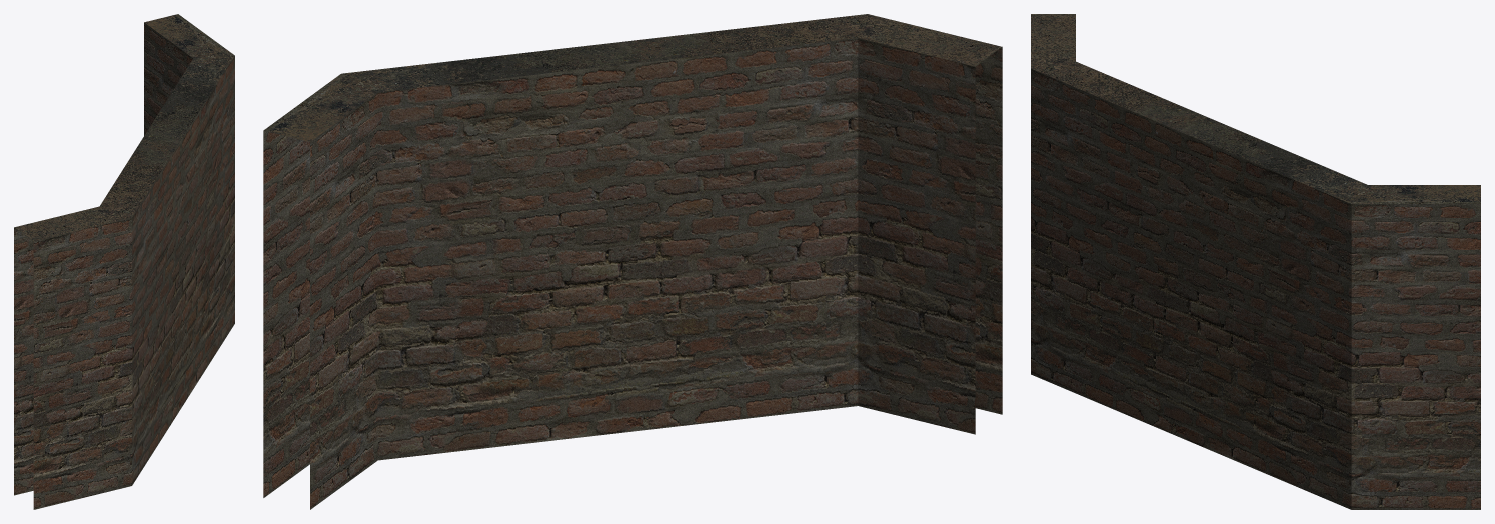
The model's file is wall_hr_1_m1a_2.glb.
3 renders of one model, left to right at view 1: azimuth 30°, elevation 25°; view 2: azimuth 150°, elevation 25°; view 3: azimuth 270°, elevation 25°, orthographic. The views are drawn at different scales.
Parts seen in each view (by area): view 1: wall_hr_1_m1a_2; view 2: wall_hr_1_m1a_2; view 3: wall_hr_1_m1a_2.
Boxes of the visible parts, x1,y1,x2,y2 form: wall_hr_1_m1a_2: [14, 14, 234, 509]; wall_hr_1_m1a_2: [263, 14, 1002, 509]; wall_hr_1_m1a_2: [1031, 14, 1480, 509].
Bounding box in the file's own units: 4 × 3 × 4.
Materials: 2 (2 with a texture image).
